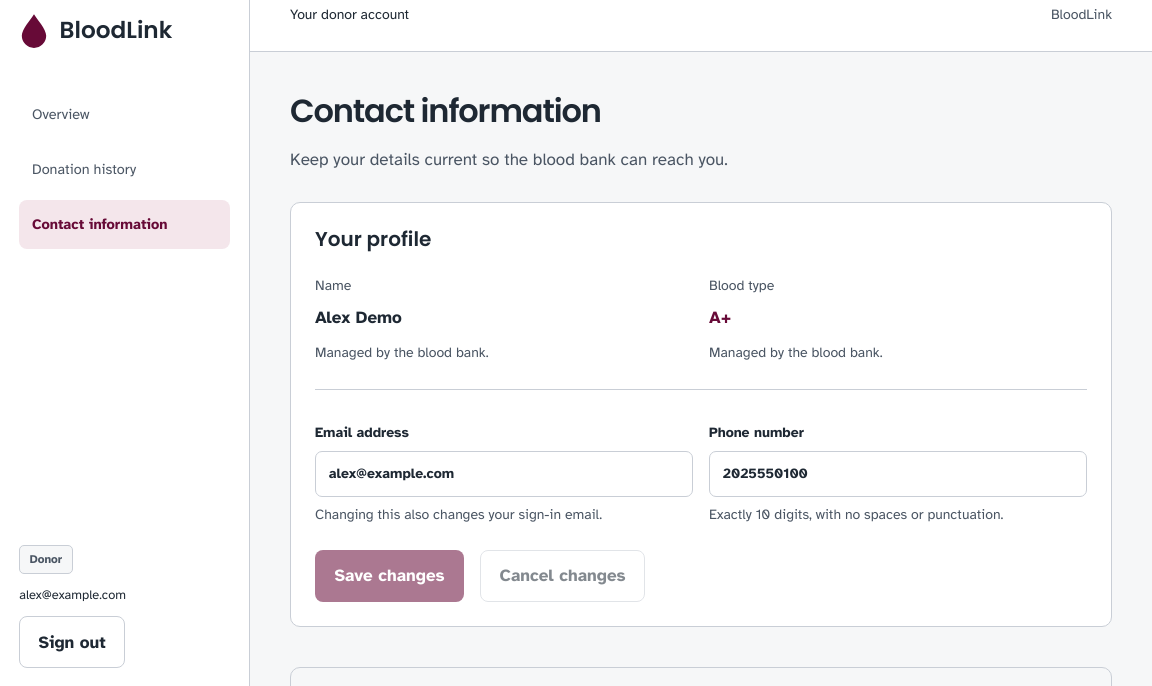
Test: invalid contact fields stay editable, do not save, and can be cancelled
Replace the text in the field labelled "Phone number" with "123" at point(898, 474), box [709,451,1087,498]
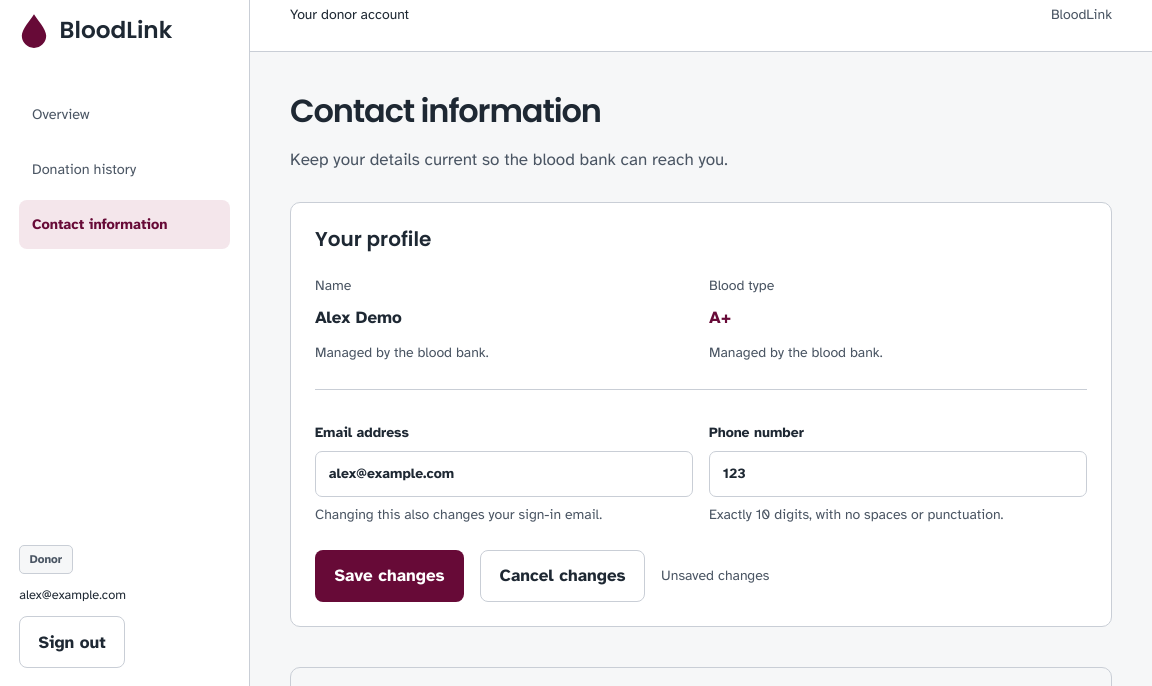
Click the button "Save changes" at point(390, 576), box [315,550,464,602]
(page scrolled)
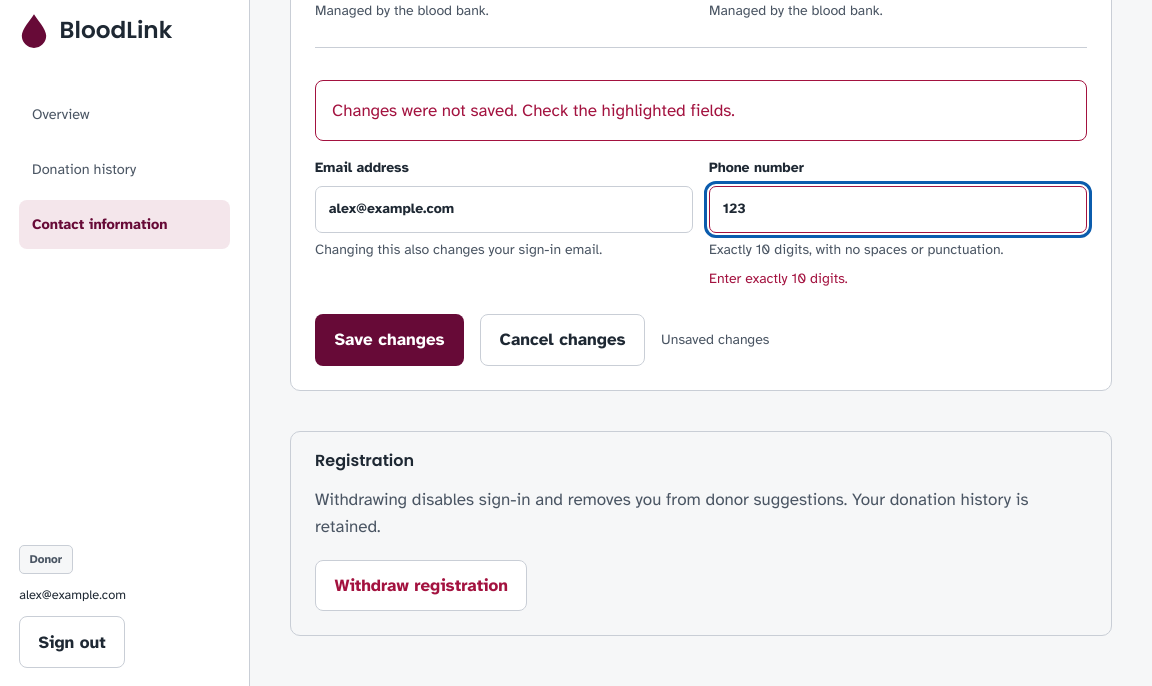
Expected: the text "Enter exactly 10 digits." is shown, [709,270,848,287]
Click the button "Cancel changes" at point(563, 340), box [480,314,645,366]
(page scrolled)
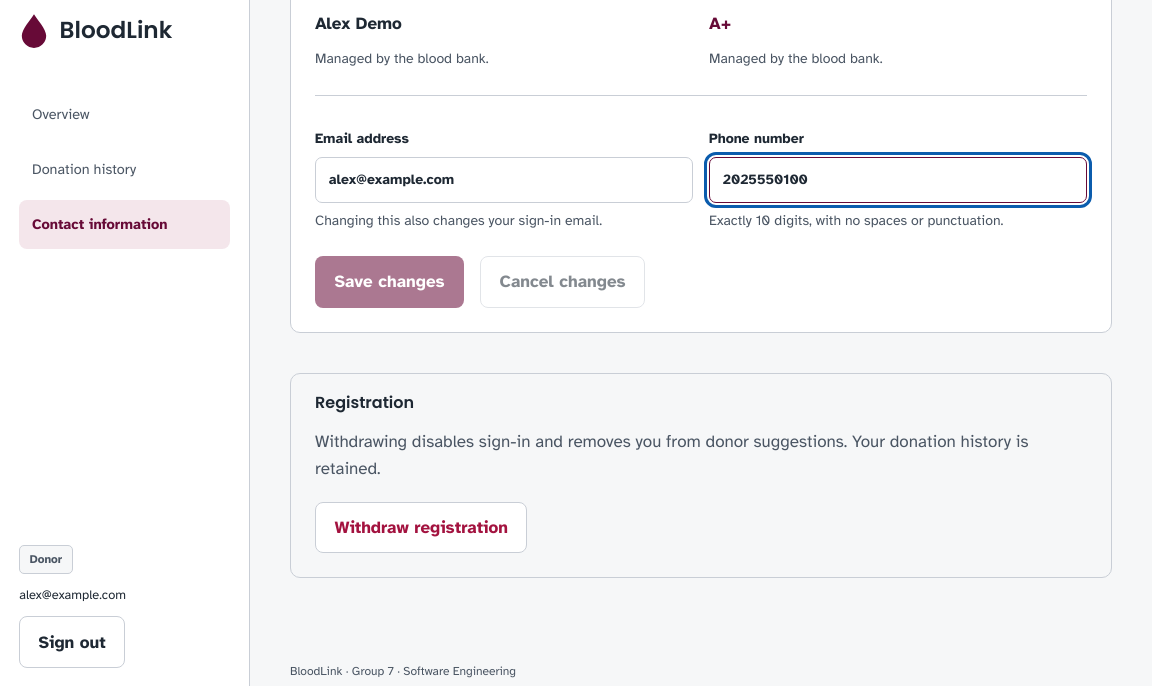
Expected: the field labelled "Phone number" holds "2025550100", [709,157,1087,204]
Expected: the message "Changes were not saved. Check the highlighted fields." is gone
